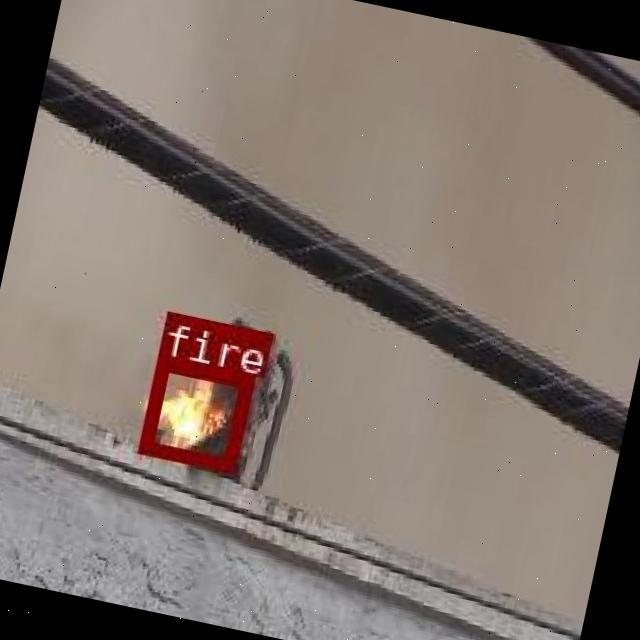fire: (135, 354, 252, 471)
